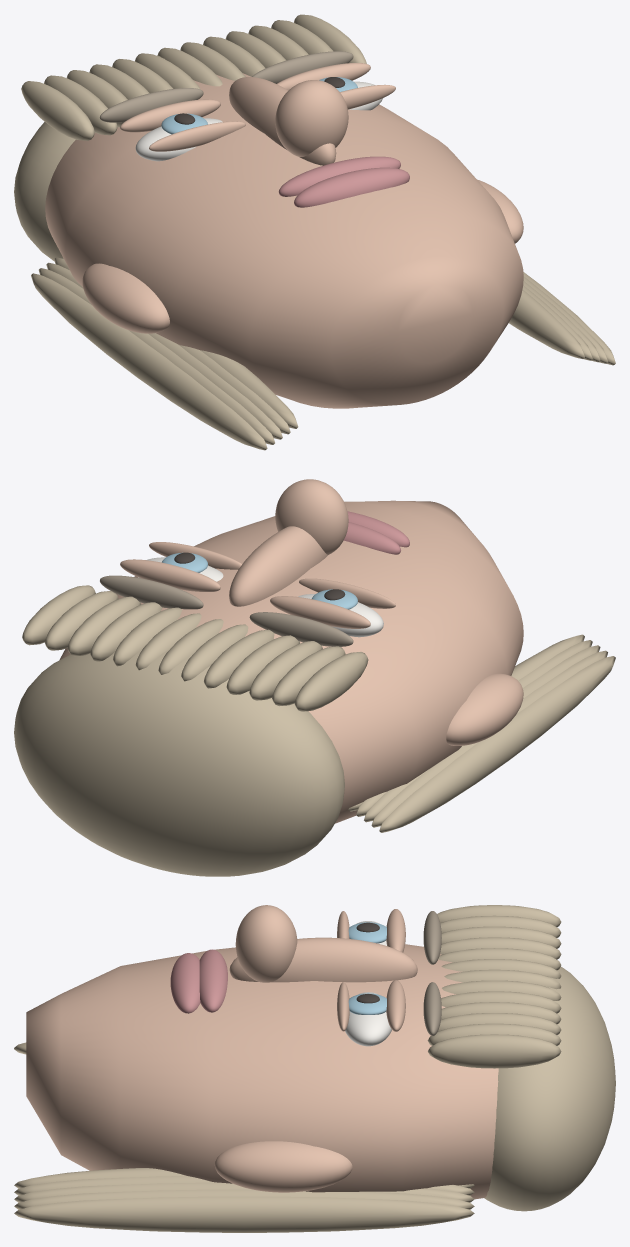
File: laura-head-inspection.glb
The picture shows the model from 3 angles, top to bottom: view 1: azimuth 30°, elevation 25°; view 2: azimuth 150°, elevation 25°; view 3: azimuth 270°, elevation 25°; orthographic projection. The views are drawn at different scales.
Parts seen in each view (by area): view 1: Laura face - oval cheeks tapered jaw, Long straight hair -1 4, Nose soft rounded tip, Ash blonde scalp, Ear Left, Nose bridge, Lower lip, Fringe 00, Long straight hair 1 0, Long straight hair -1 3, Long straight hair -1 2, Upper lip (+24 smaller); view 2: Ash blonde scalp, Laura face - oval cheeks tapered jaw, Long straight hair -1 4, Nose bridge, Nose soft rounded tip, Ear Left, Fringe 00, Long straight hair -1 3, Eyebrow Left, Eyebrow Right, Upper eyelid Left, Upper eyelid Right (+20 smaller); view 3: Laura face - oval cheeks tapered jaw, Ash blonde scalp, Long straight hair 1 4, Ear Right, Nose bridge, Nose soft rounded tip, Fringe 12, Long straight hair 1 3, Long straight hair 1 2, Long straight hair 1 1, Upper lip, Lower lip (+21 smaller).
Part boxes in pixels (box(x1,y1,x2,y2)): Laura face - oval cheeks tapered jaw: box(45, 73, 523, 408); Long straight hair -1 4: box(31, 273, 267, 450); Nose soft rounded tip: box(275, 80, 348, 156); Ash blonde scalp: box(14, 51, 182, 261); Ear Left: box(82, 263, 169, 333); Nose bridge: box(229, 77, 336, 165); Lower lip: box(294, 167, 409, 207); Fringe 00: box(21, 81, 94, 140); Long straight hair 1 0: box(509, 289, 584, 358); Long straight hair -1 3: box(38, 268, 274, 444); Long straight hair -1 2: box(46, 262, 282, 439); Upper lip: box(278, 156, 400, 196); Ash blonde scalp: box(14, 649, 344, 876); Laura face - oval cheeks tapered jaw: box(59, 500, 523, 823); Long straight hair -1 4: box(379, 656, 615, 832); Nose bridge: box(229, 526, 327, 606); Nose soft rounded tip: box(275, 479, 348, 554); Ear Left: box(446, 673, 523, 745); Fringe 00: box(294, 652, 368, 711); Long straight hair -1 3: box(371, 650, 607, 827); Eyebrow Left: box(249, 612, 353, 646); Eyebrow Right: box(100, 575, 203, 609); Upper eyelid Left: box(270, 596, 370, 628); Upper eyelid Right: box(120, 559, 220, 591); Laura face - oval cheeks tapered jaw: box(26, 944, 498, 1199); Ash blonde scalp: box(484, 966, 615, 1211); Long straight hair 1 4: box(14, 1196, 474, 1232); Ear Right: box(214, 1141, 352, 1192); Nose bridge: box(229, 937, 417, 982); Nose soft rounded tip: box(235, 905, 297, 982); Fringe 12: box(428, 1034, 561, 1068); Long straight hair 1 3: box(14, 1189, 474, 1209); Long straight hair 1 2: box(14, 1182, 474, 1202); Long straight hair 1 1: box(14, 1176, 474, 1195); Upper lip: box(199, 949, 227, 1012); Lower lip: box(170, 953, 200, 1013).
Size of the model in its own units: 1.85 by 1.24 by 2.43.
